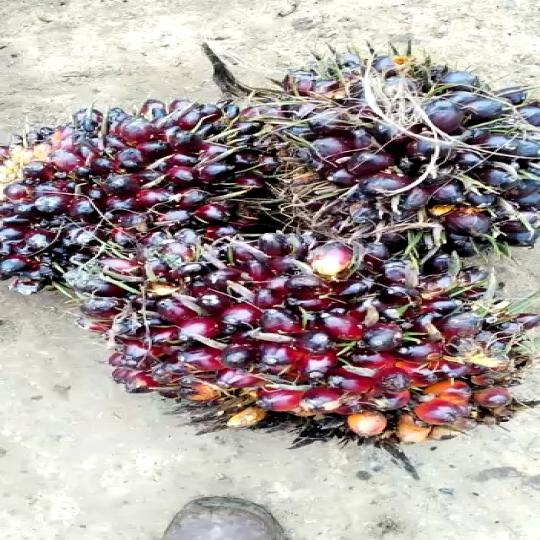kurang masak: (13, 41, 540, 452)
